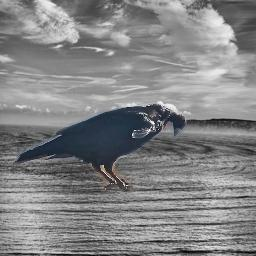Crow: (11, 102, 187, 193)
